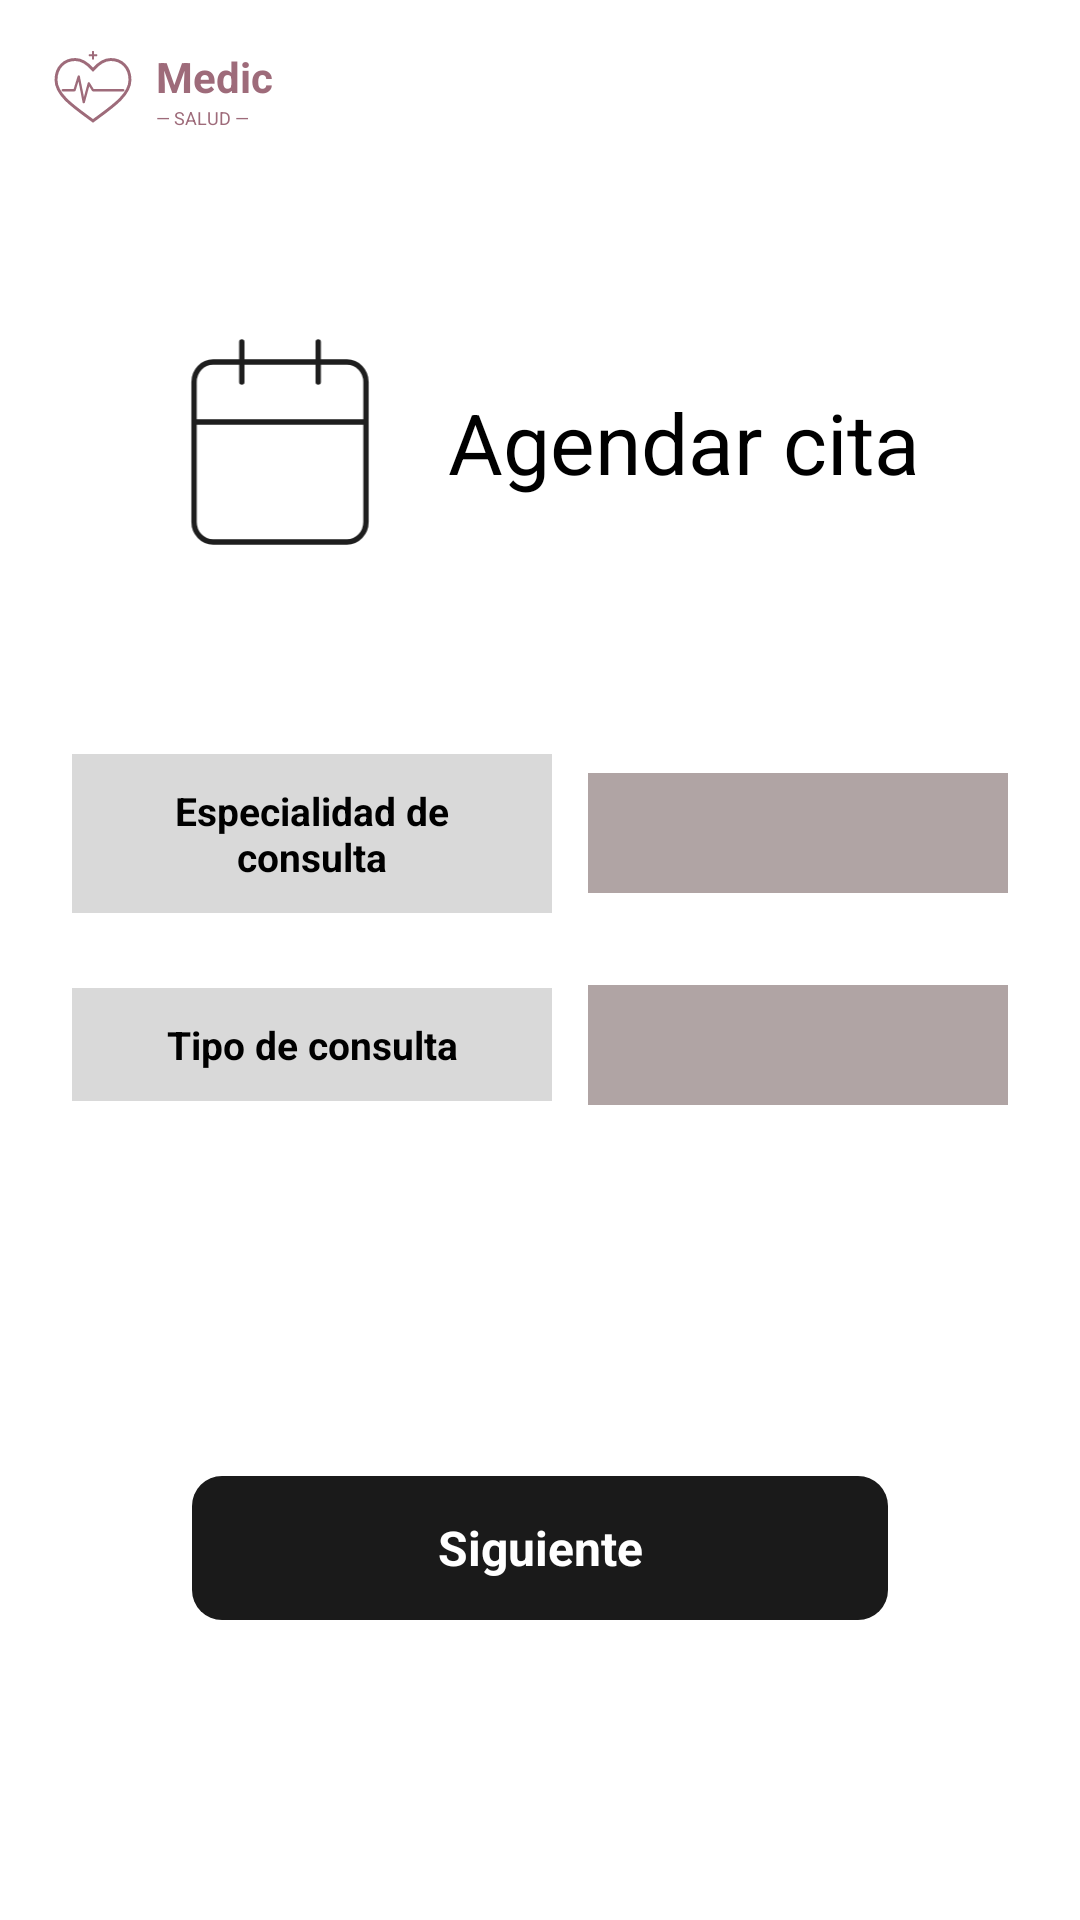

Locate icon controls on the screen. Image size 1080px x 1920px, boxes as (left=x1, top=y1, right=x2, bottom=y2).
Icono de agendar: (left=191, top=339, right=369, bottom=545)
